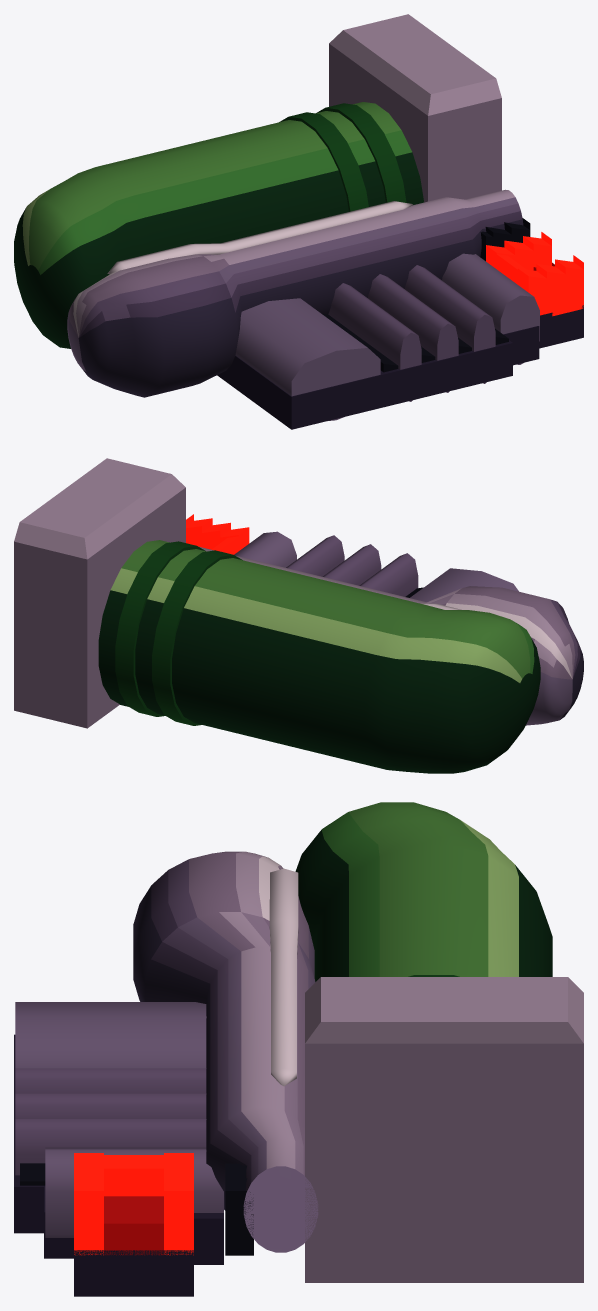
The model's file is newshc-197.glb.
The picture shows the model from 3 angles, top to bottom: view 1: azimuth 30°, elevation 25°; view 2: azimuth 150°, elevation 25°; view 3: azimuth 270°, elevation 25°; orthographic projection. The views are drawn at different scales.
Visible parts, largest first — view 1: newshc-197; view 2: newshc-197; view 3: newshc-197.
Part boxes in pixels (x1,y1,x2,y2): newshc-197: [14, 14, 583, 429]; newshc-197: [14, 458, 583, 773]; newshc-197: [14, 802, 583, 1296].
Size of the model in its own units: 2 by 0.85 by 1.58.
